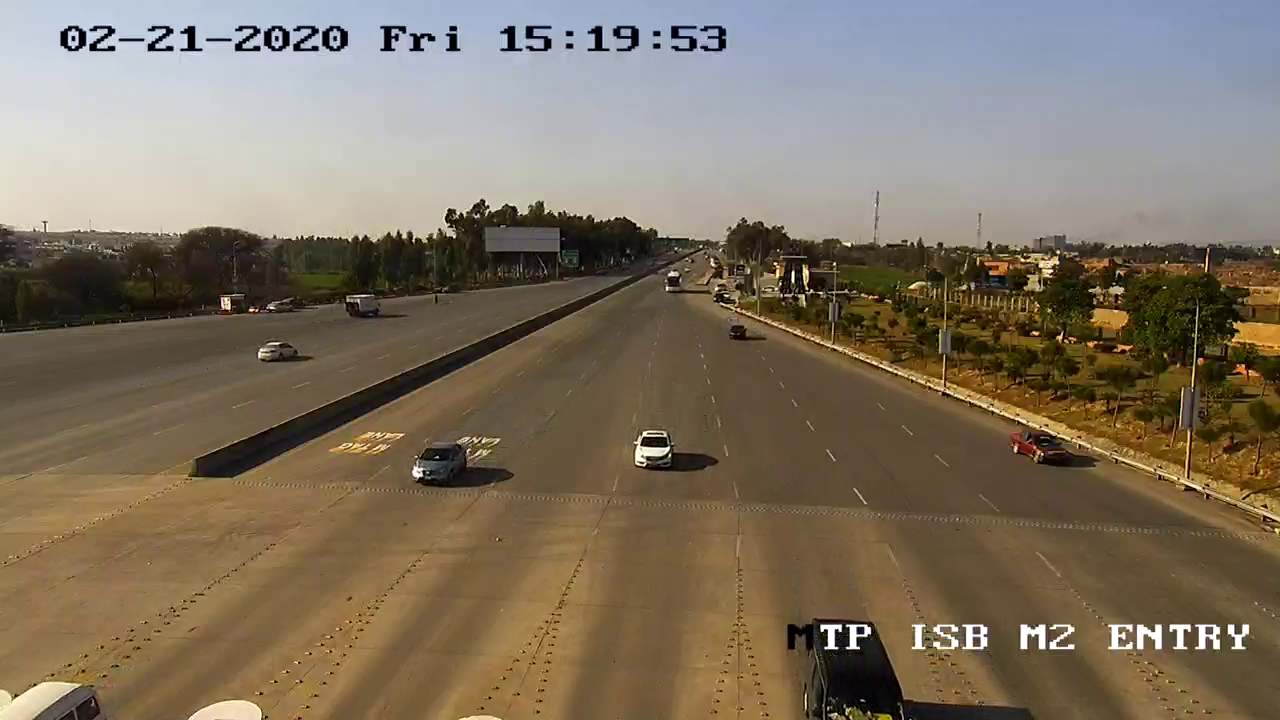f1: (409, 438, 472, 492), (625, 422, 683, 474)
